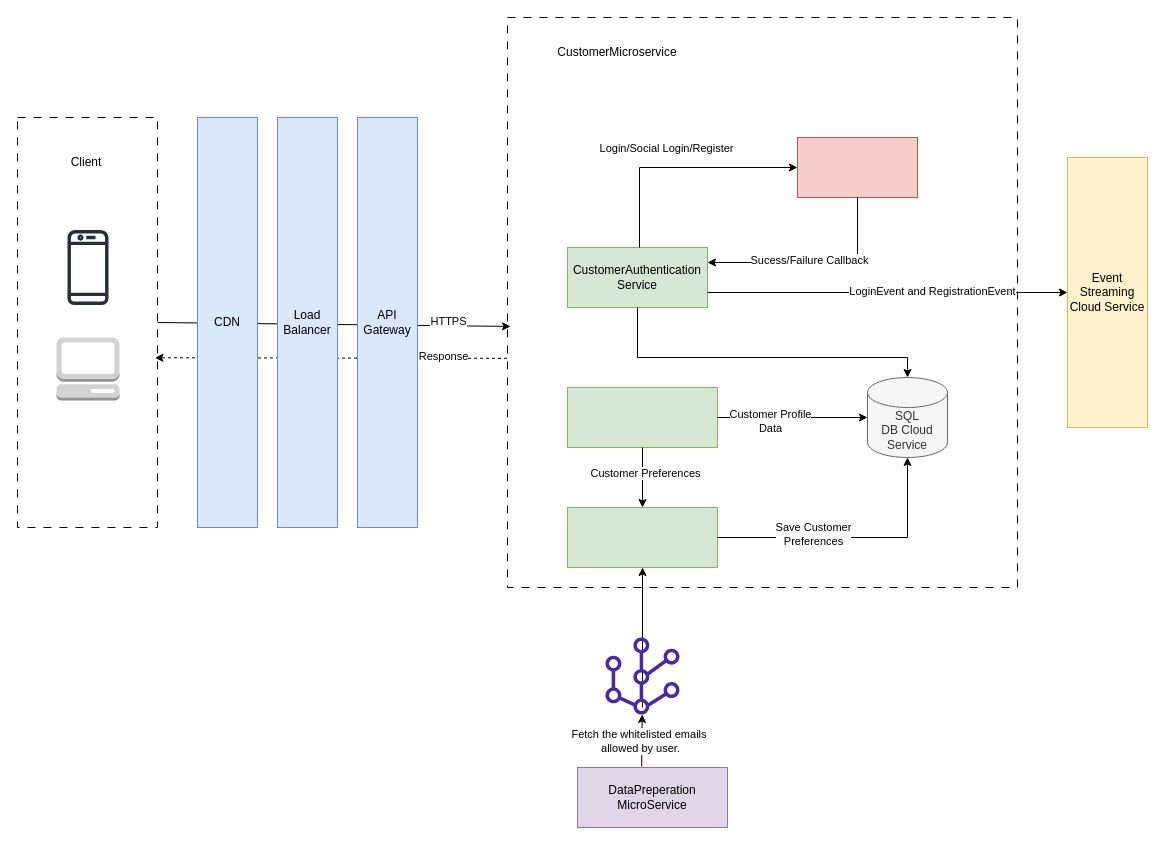
This 1165x845 diagram has some shape labels left out. Each missing label, with the centre of its shape:
"CustomerConsent Management Service" goes at (x=642, y=537).
"CustomerProfileService" goes at (x=642, y=417).
"IDP" goes at (x=857, y=167).
"Service Mesh Control Plane" goes at (x=642, y=675).
